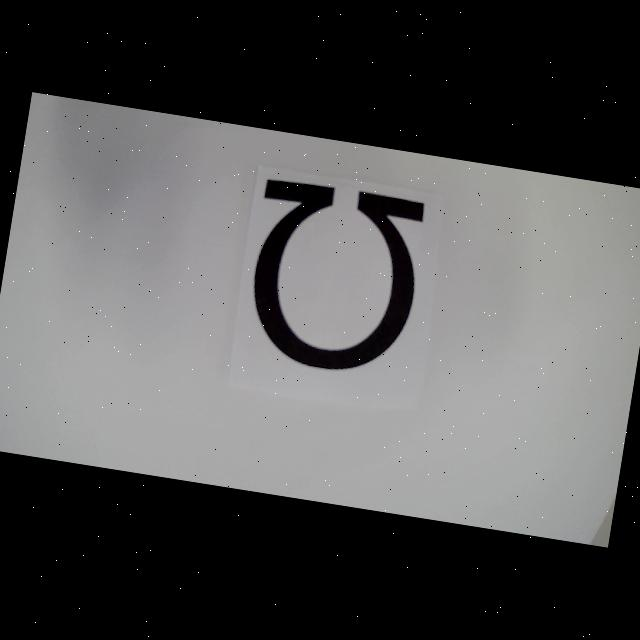OMEGA: (239, 178, 428, 382)
